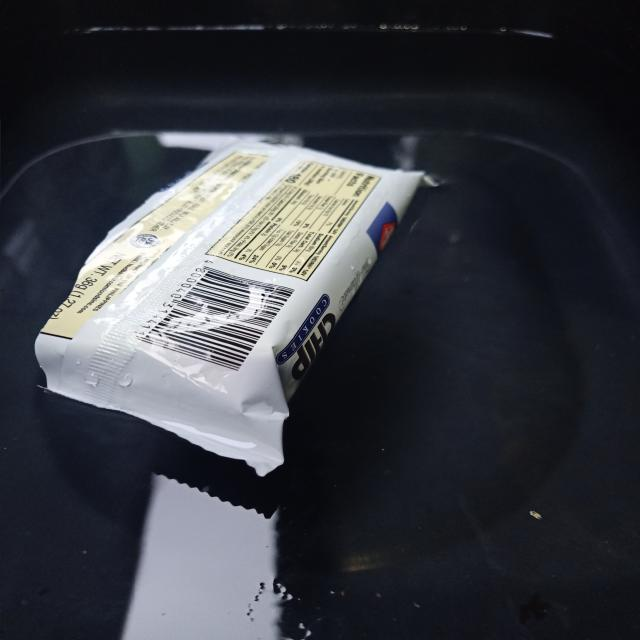Plastic Wrapper: (34, 152, 422, 486)
